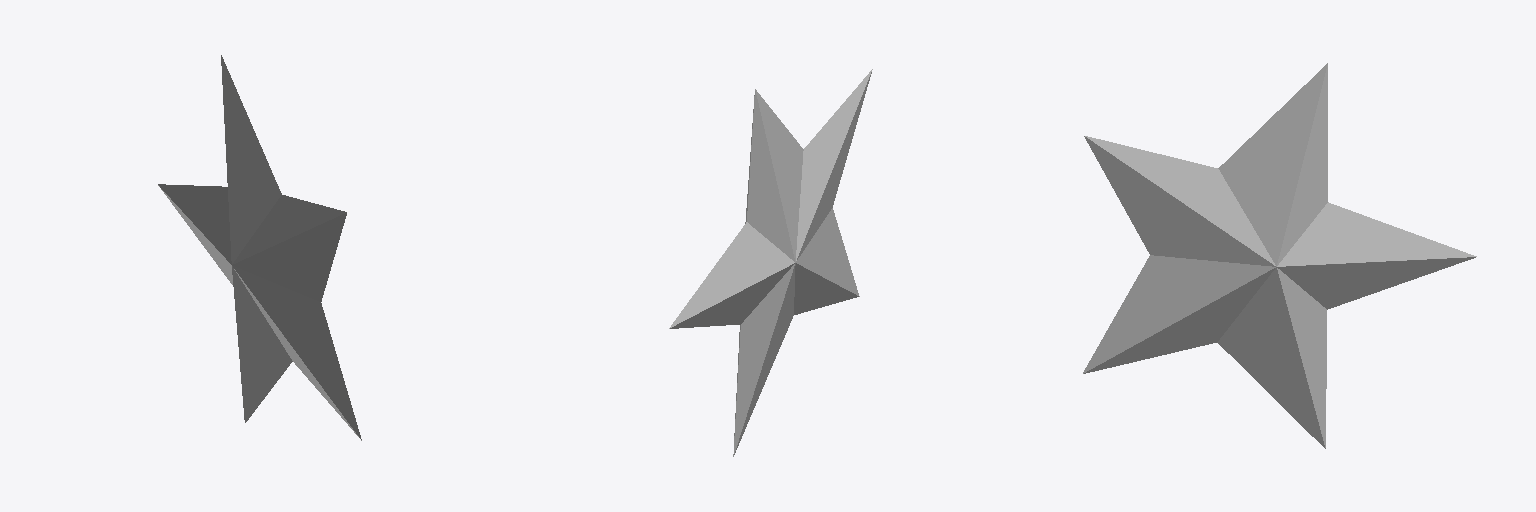
The model's file is star.obj.
The picture shows the model from 3 angles: view 1: azimuth 30°, elevation 25°; view 2: azimuth 150°, elevation 25°; view 3: azimuth 270°, elevation 25°; orthographic projection.
Parts seen in each view (by area): view 1: star; view 2: star; view 3: star.
Boxes of the visible parts, <box> form: star: <box>158,55,361,440</box>; star: <box>669,69,872,456</box>; star: <box>1083,63,1476,448</box>.
Bounding box in the file's own units: 0.2172 × 1.5 × 1.44.